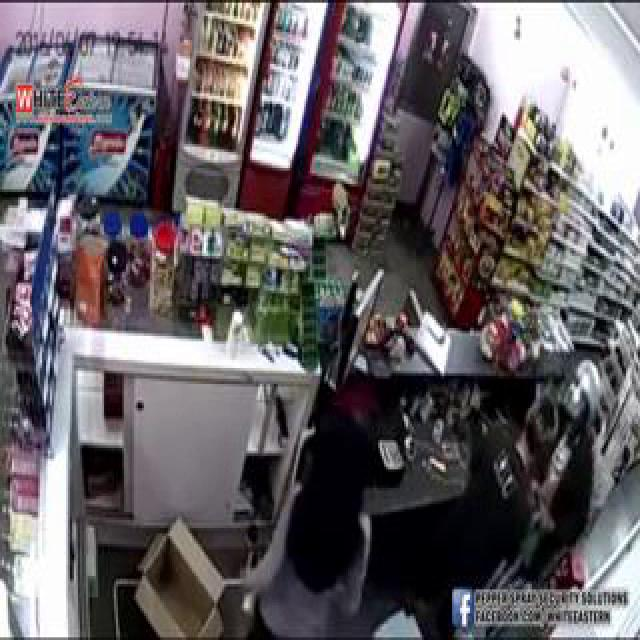robbery: (295, 150, 640, 559)
